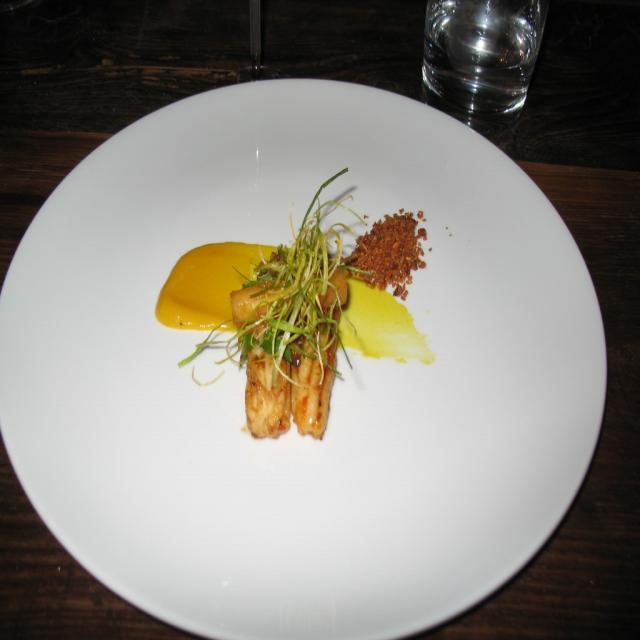ceramic plate: (5, 75, 618, 640)
